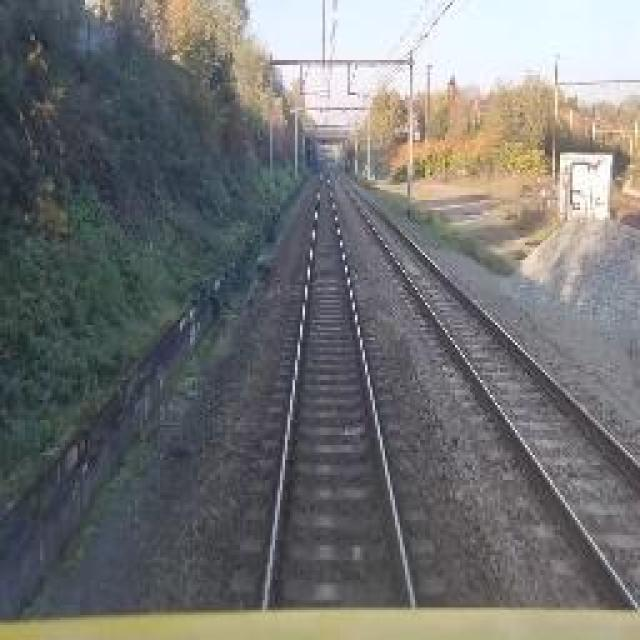rail: (327, 169, 640, 607), (224, 162, 440, 612)
